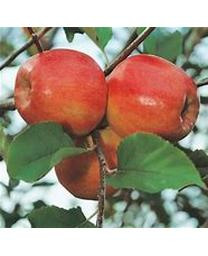apple: (14, 48, 107, 139), (107, 55, 200, 143), (55, 118, 123, 199)
